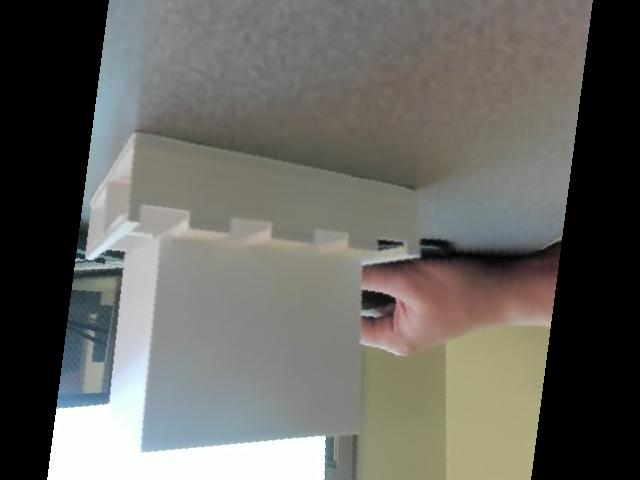white pallet: (69, 121, 459, 466)
